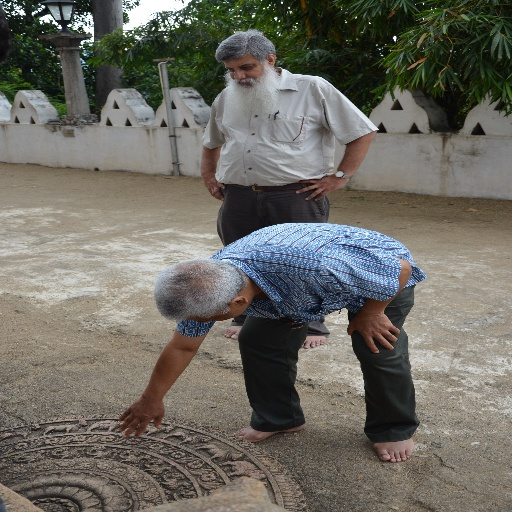hand: (354, 301, 405, 356), (120, 398, 162, 438), (297, 174, 349, 201), (202, 172, 226, 200)
